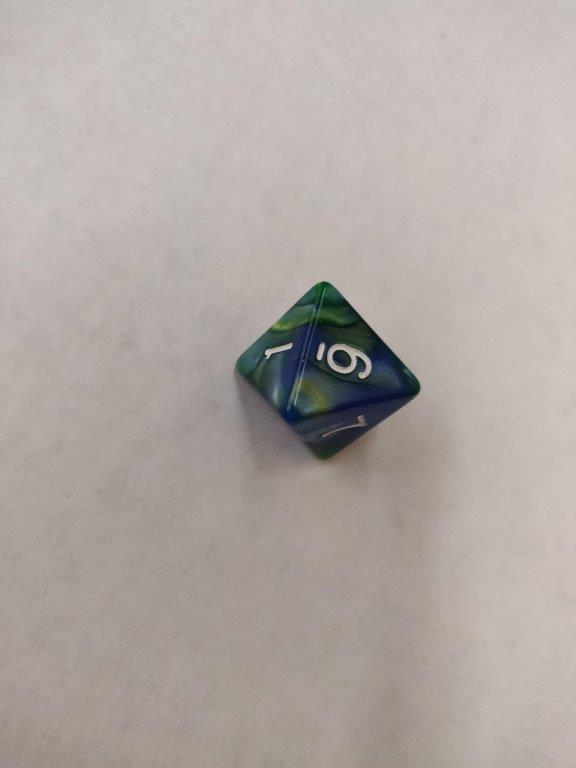d8-6: (234, 278, 421, 465)
